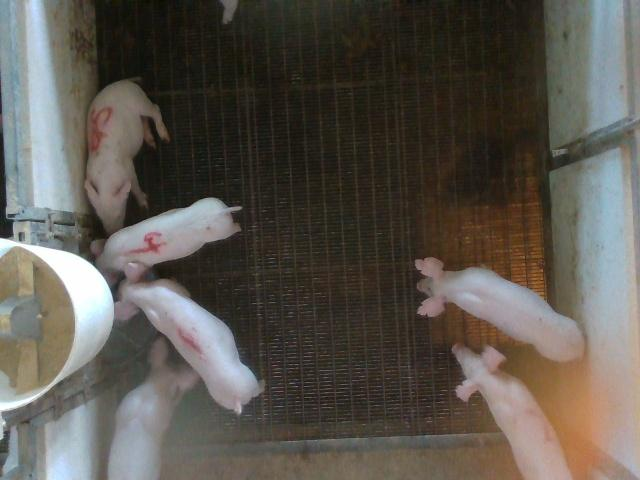pig-1: (115, 262, 264, 412)
pig-2: (452, 345, 571, 479)
pig-4: (96, 198, 241, 274)
pig-5: (85, 80, 170, 234)
